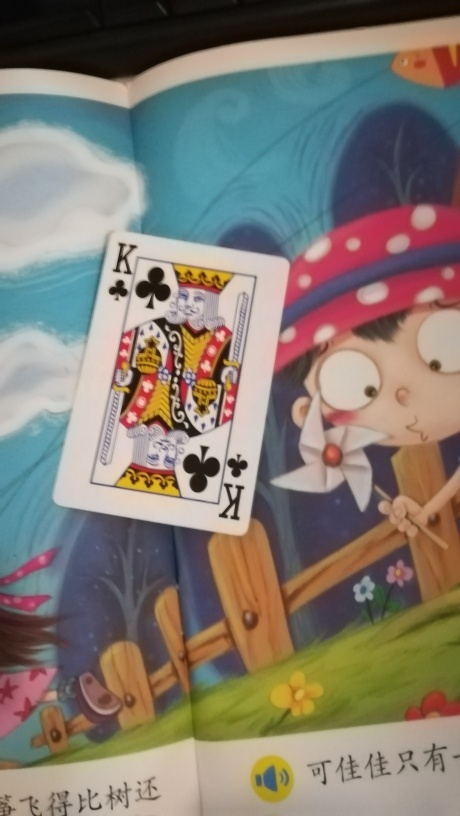mh k: (46, 225, 288, 534)
